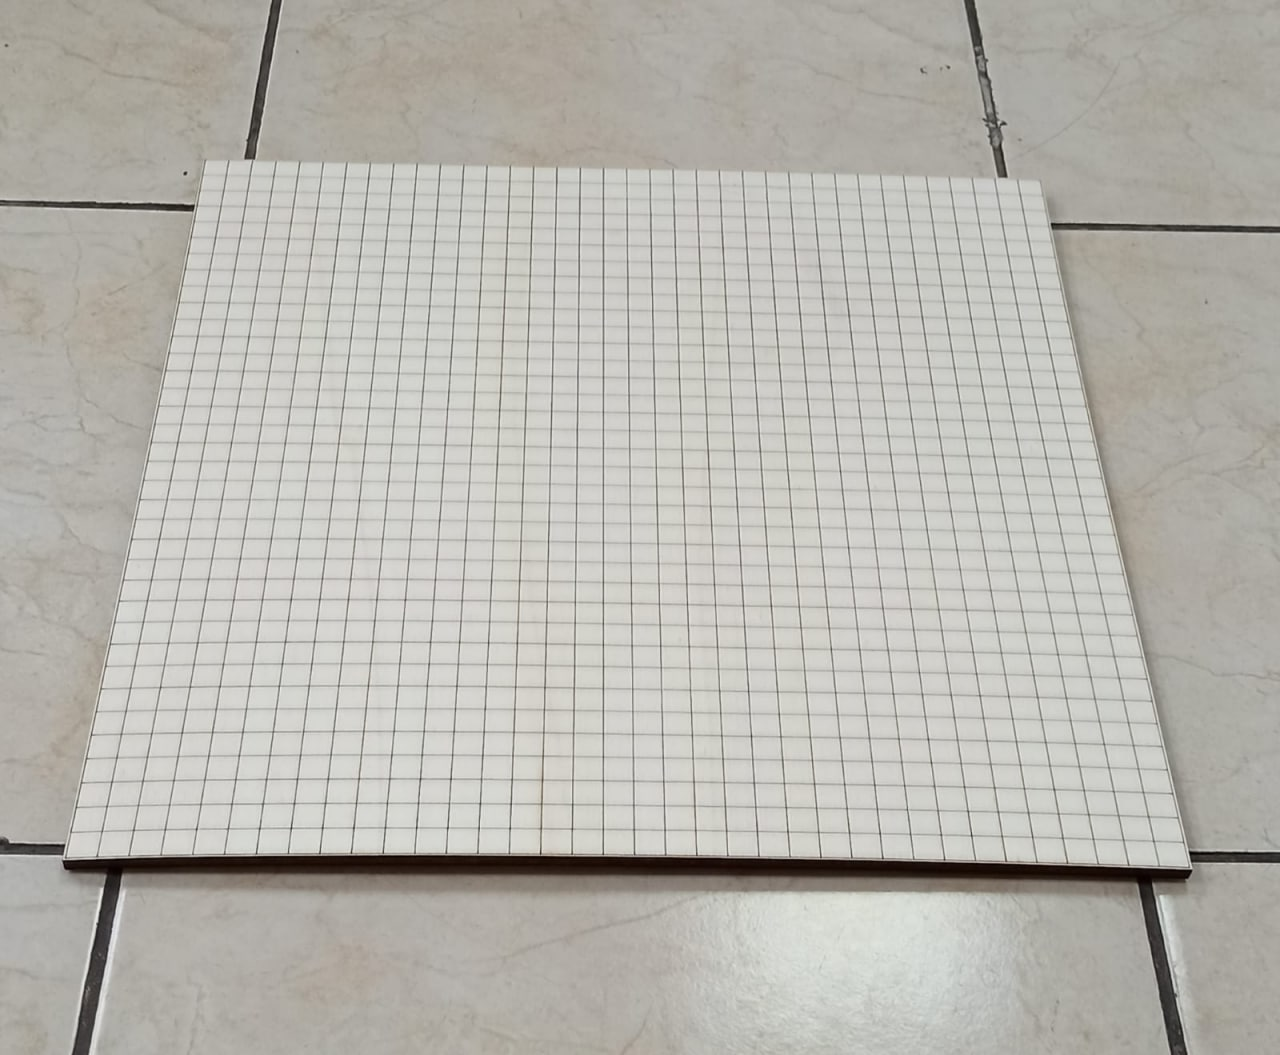grid: (55, 153, 1203, 890)
